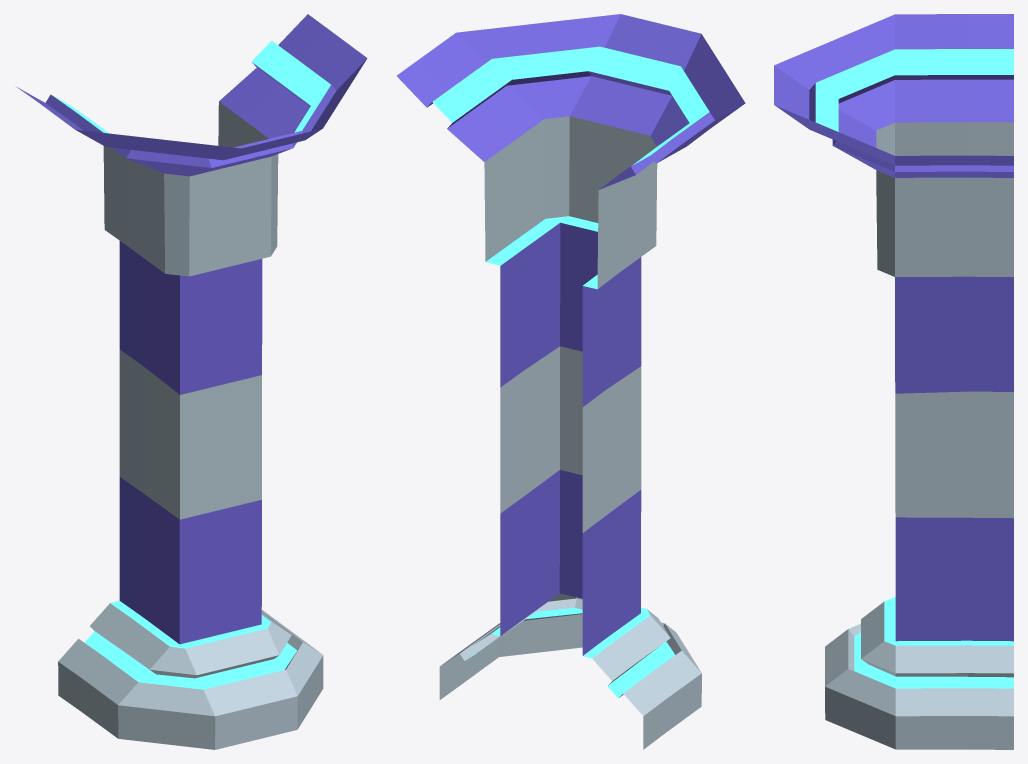
File: FullPillar.fbx
3 renders of one model, left to right at view 1: azimuth 30°, elevation 25°; view 2: azimuth 150°, elevation 25°; view 3: azimuth 270°, elevation 25°, orthographic.
Parts seen in each view (by area): view 1: Full_PillarWall_A; view 2: Full_PillarWall_A; view 3: Full_PillarWall_A.
Boxes of the visible parts, x1,y1,x2,y2 form: Full_PillarWall_A: [17, 14, 367, 749]; Full_PillarWall_A: [396, 14, 745, 749]; Full_PillarWall_A: [774, 14, 1013, 749].
Bounding box in the file's own units: 342 × 690 × 244.
